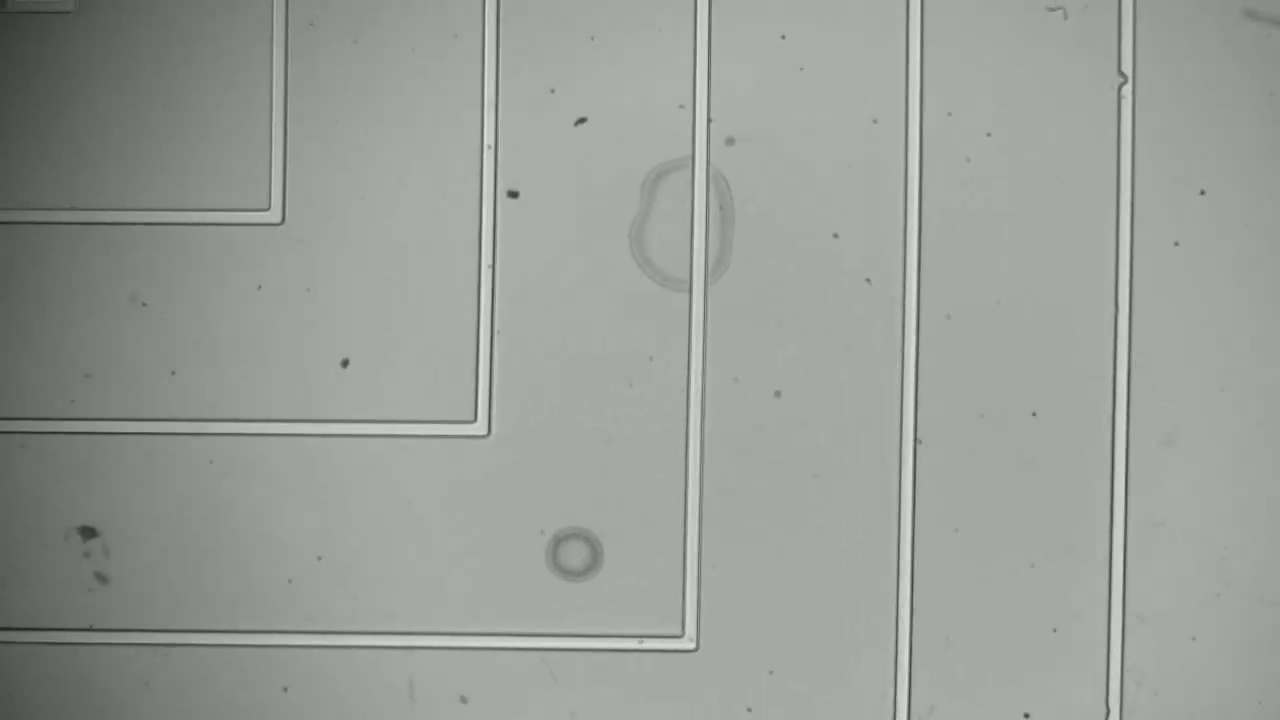edge_bite: (1110, 62, 1145, 94)
